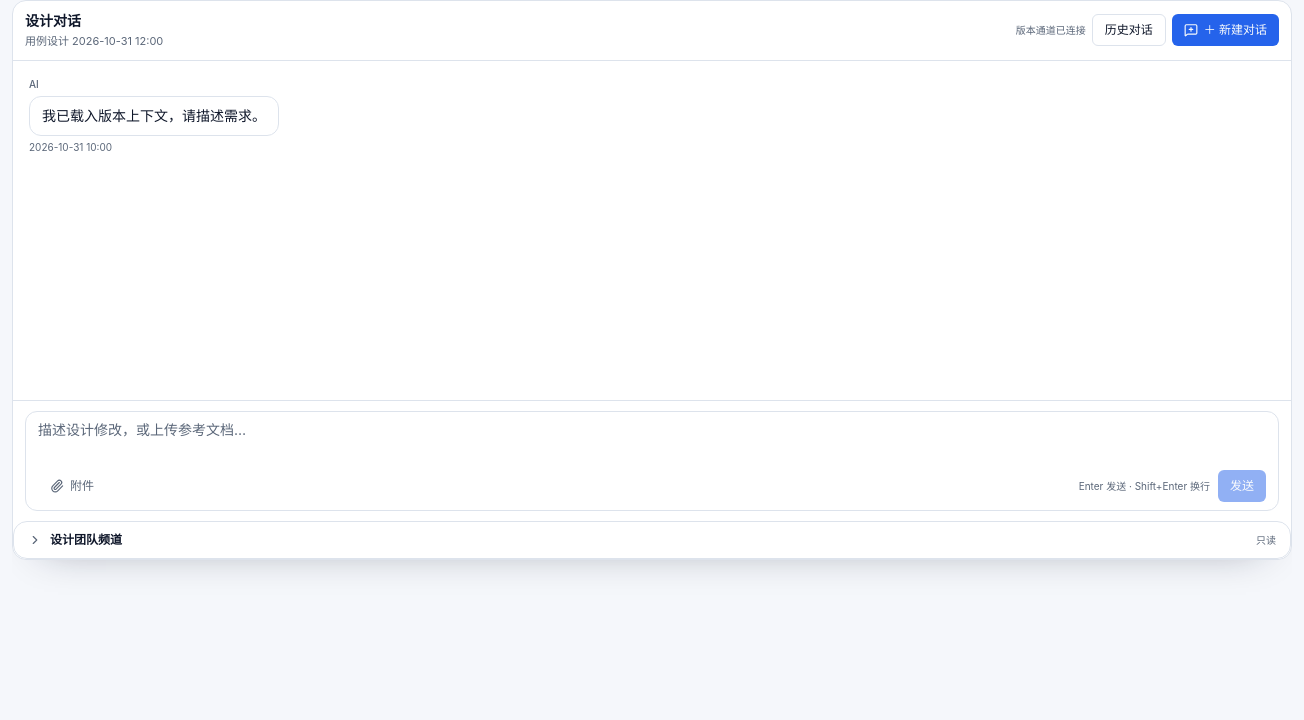
Test: DesignChat › renders the thread, sends text and has no end-round control
The width and height of the screenshot is (1304, 720).
Expected: the text "我已载入版本上下文，请描述需求。" is shown, 42,104 -> 266,127
Step 1. Type "请补充退款失败用例" into the text box with test id "composer-textarea" → coordinates (652, 440), box 38,420 -> 1266,460
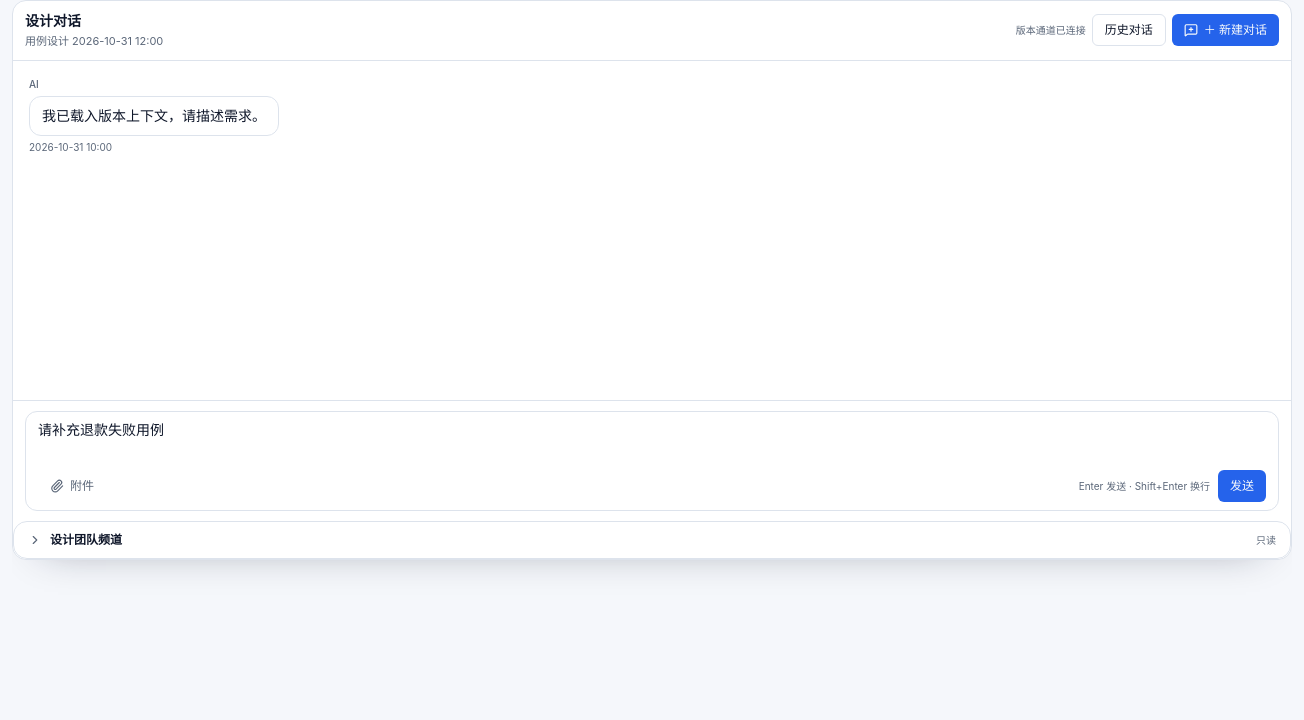
Step 2. Click the button "发送" → coordinates (1242, 486), box 1218,470 -> 1266,502
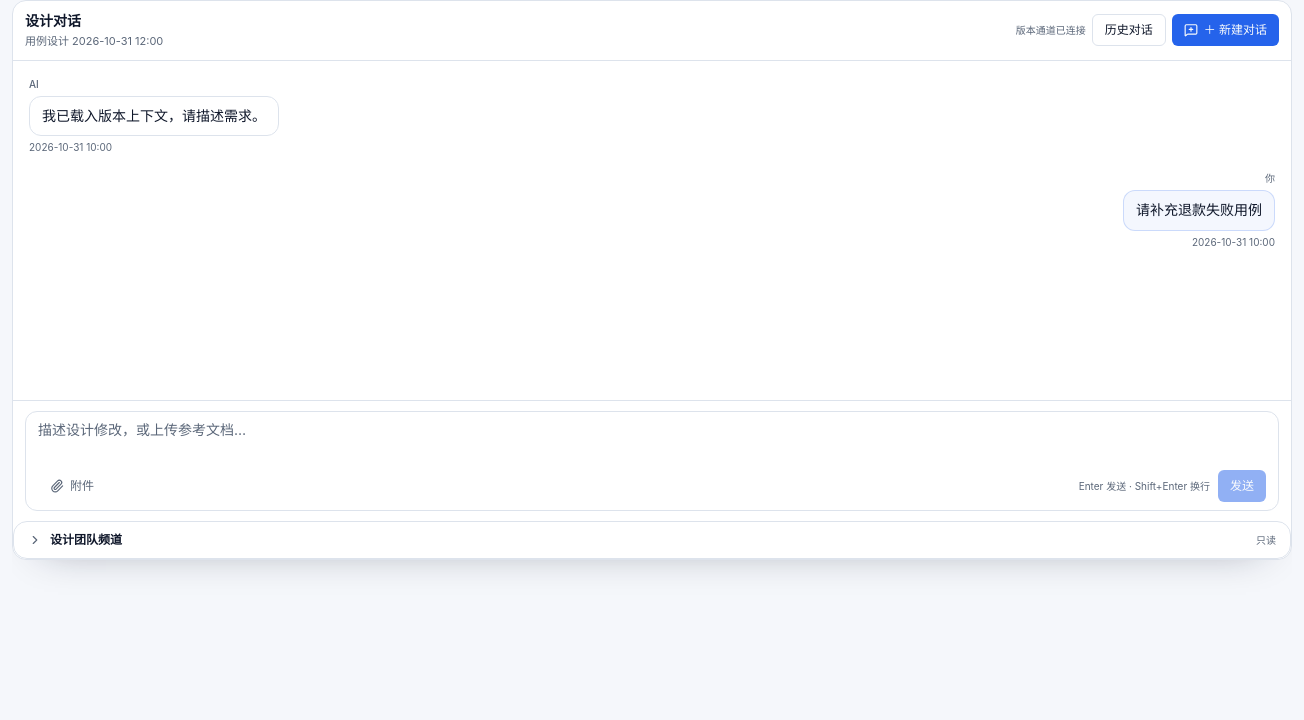
Now the text "请补充退款失败用例" is shown, box 1136,199 -> 1262,222
